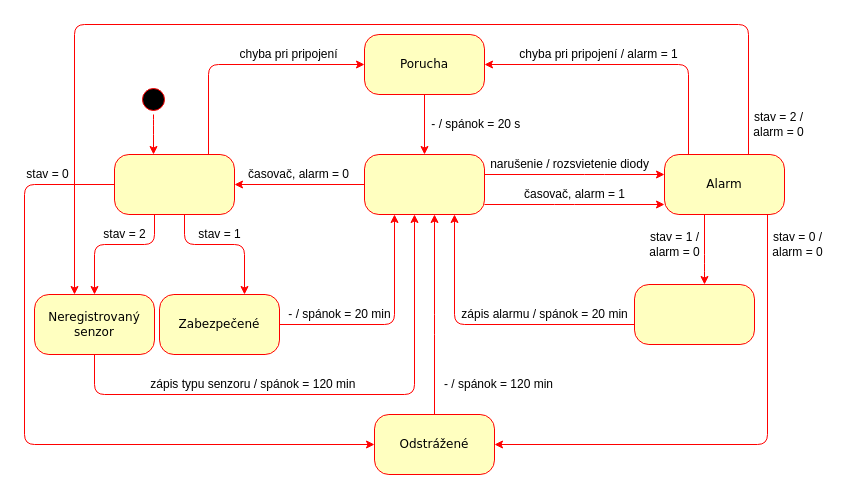
Image size: 850x492. Some labels were removed from this diagram. The shapes that lost their labels are listed below. From the top down, each one's box as (x1, y1, x2, y2) in pixels, then its label:
(114, 154, 234, 214): Pravidelná komunikácia
(364, 154, 484, 214): Hlboký spánok
(634, 284, 754, 344): Vyhlásenie alarmu
